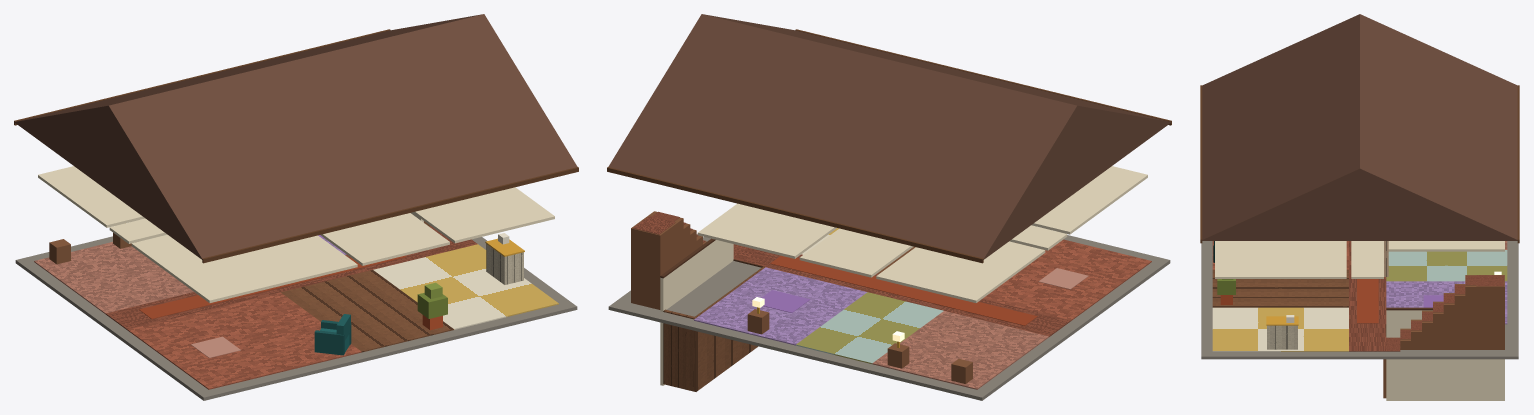
Rendered from structure.glb.
The picture shows the model from 3 angles, left to right: view 1: azimuth 30°, elevation 25°; view 2: azimuth 150°, elevation 25°; view 3: azimuth 270°, elevation 25°; orthographic projection. The views are drawn at different scales.
Parts seen in each view (by area): view 1: Part1, Box2, Box3, Box1, Box6, Box4, Box14, Box7, Box5, Box8, Box15, Box20 (+7 smaller); view 2: Part1, Box1, Box14, Box2, Box10, Box15, Box12, Box11, Box13, Box3, Box76, Box35 (+9 smaller); view 3: Part1, Box37, Box1, Box6, Box7, Box4, Box12, Box8, Box35, Box10, Box11, Box9 (+11 smaller).
Part boxes in pixels (bbox=[...]): Part1: bbox=[15, 14, 577, 259]; Box2: bbox=[128, 292, 361, 389]; Box3: bbox=[131, 234, 357, 302]; Box1: bbox=[15, 236, 577, 400]; Box6: bbox=[373, 244, 558, 329]; Box4: bbox=[281, 270, 453, 352]; Box14: bbox=[34, 242, 193, 313]; Box7: bbox=[413, 187, 554, 243]; Box5: bbox=[320, 213, 449, 265]; Box8: bbox=[105, 232, 477, 330]; Box15: bbox=[38, 166, 145, 227]; Box20: bbox=[202, 167, 578, 263]; Part1: bbox=[608, 14, 1170, 259]; Box1: bbox=[608, 235, 1170, 400]; Box14: bbox=[872, 311, 1048, 389]; Box2: bbox=[983, 239, 1151, 320]; Box10: bbox=[694, 267, 867, 345]; Box15: bbox=[876, 241, 1045, 302]; Box12: bbox=[796, 292, 943, 363]; Box11: bbox=[697, 203, 836, 258]; Box13: bbox=[799, 228, 913, 277]; Box3: bbox=[1031, 166, 1147, 234]; Box76: bbox=[770, 255, 1037, 325]; Box35: bbox=[631, 216, 677, 309]; Part1: bbox=[1201, 14, 1518, 240]; Box37: bbox=[1386, 310, 1504, 400]; Box1: bbox=[1201, 241, 1518, 359]; Box6: bbox=[1212, 307, 1348, 351]; Box7: bbox=[1215, 241, 1346, 278]; Box4: bbox=[1212, 269, 1348, 307]; Box12: bbox=[1386, 250, 1507, 281]; Box8: bbox=[1349, 241, 1386, 351]; Box35: bbox=[1476, 275, 1504, 349]; Box10: bbox=[1386, 281, 1507, 324]; Box11: bbox=[1388, 241, 1504, 251]; Box9: bbox=[1351, 241, 1383, 278].
Size of the model in its own units: 11.8 by 8.92 by 10.3.
Materials: 32 (9 with a texture image).
